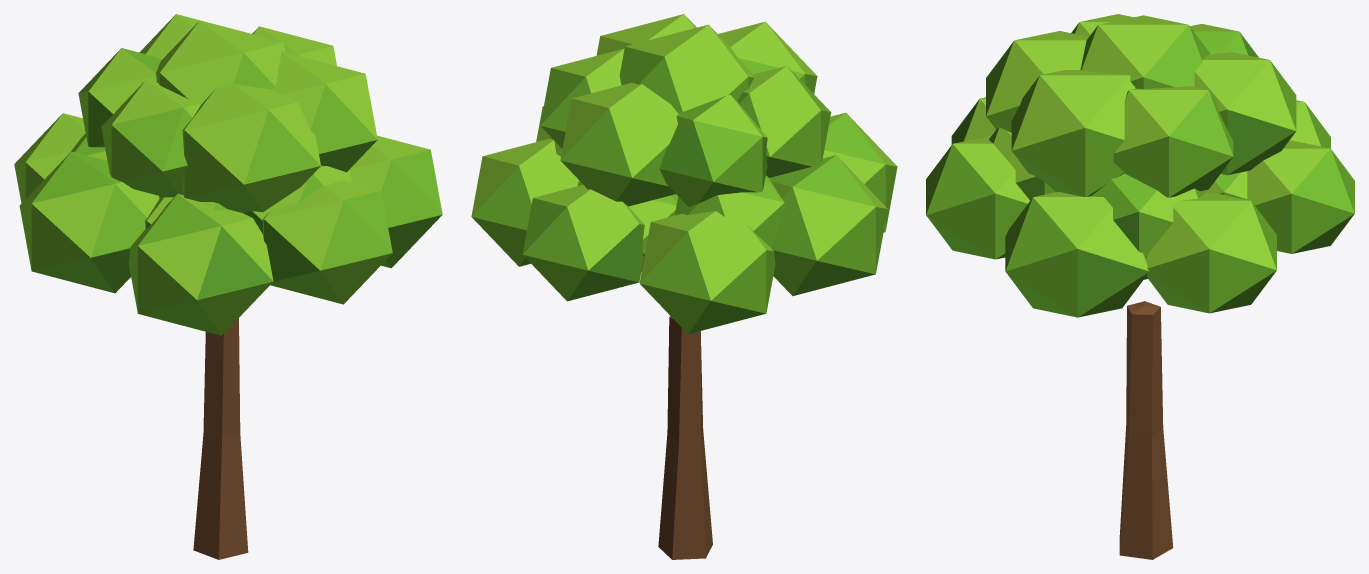
The model's file is leafy_tree_lod.glb.
3 views of the same model, side by side, from view 1: azimuth 30°, elevation 25°; view 2: azimuth 150°, elevation 25°; view 3: azimuth 270°, elevation 25° (orthographic). The views are drawn at different scales.
Visible parts, largest first — view 1: leafy_tree_lod; view 2: leafy_tree_lod; view 3: leafy_tree_lod.
Boxes of the visible parts, bbox=[...] form: leafy_tree_lod: bbox=[14, 14, 442, 559]; leafy_tree_lod: bbox=[471, 14, 897, 559]; leafy_tree_lod: bbox=[926, 14, 1354, 559].
Size of the model in its own units: 6.57 by 8.74 by 6.49.
